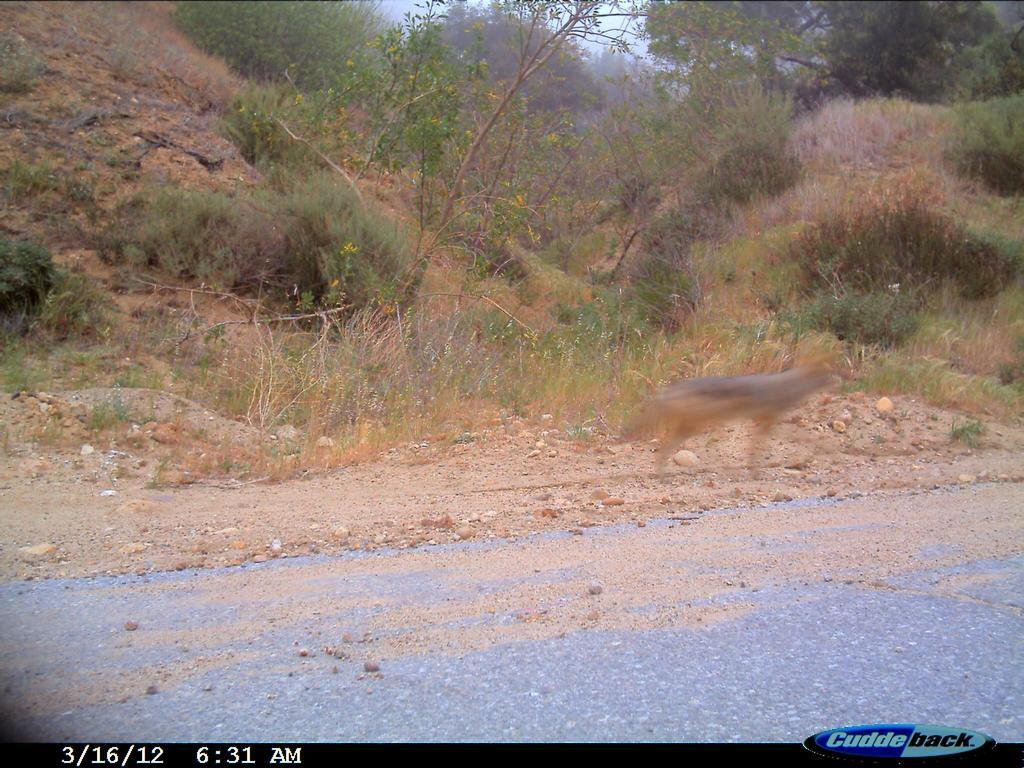coyote: (610, 331, 854, 496)
